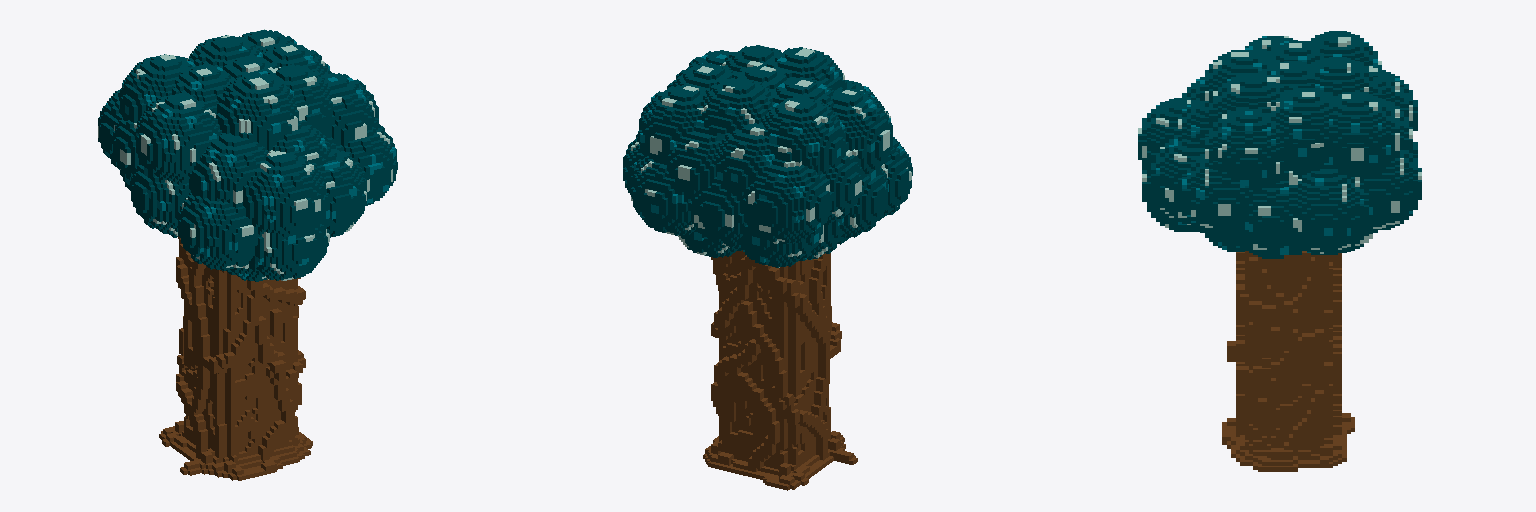
3 renders of one model, left to right at view 1: azimuth 30°, elevation 25°; view 2: azimuth 150°, elevation 25°; view 3: azimuth 270°, elevation 25°, orthographic.
Visible parts, largest first — view 1: object 1; view 2: object 1; view 3: object 1.
Boxes of the visible parts, x1=… form: object 1: x1=98, y1=29, x2=397, y2=480; object 1: x1=623, y1=45, x2=912, y2=490; object 1: x1=1138, y1=31, x2=1421, y2=471.
Size of the model in its own units: 6 by 9.6 by 6.4.
1 materials, 1 textured.